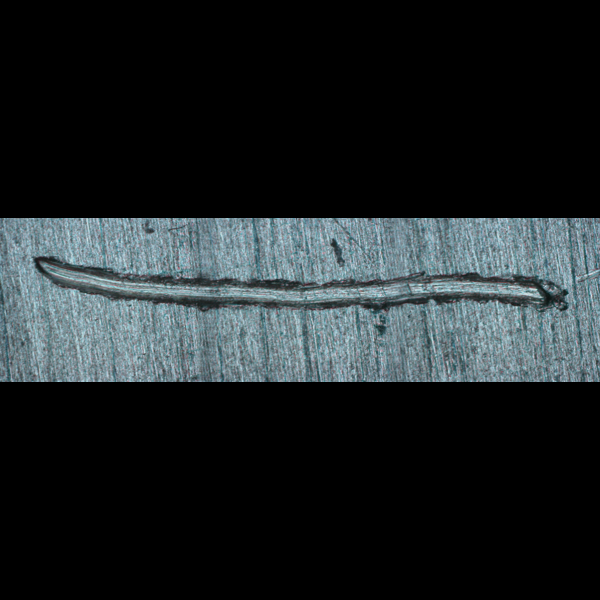d: (30, 250, 575, 326)
